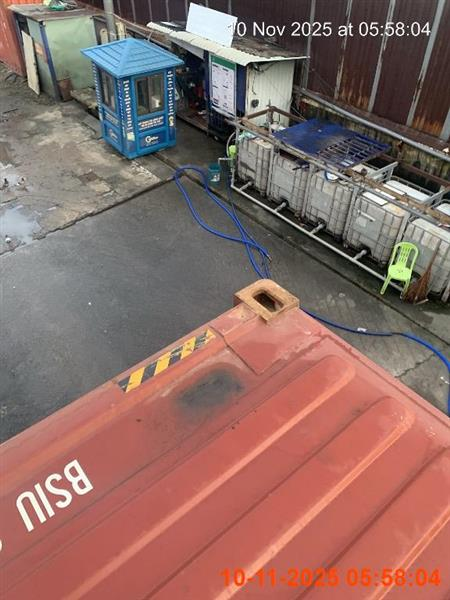crack: (0, 277, 449, 598), (379, 241, 419, 299)
